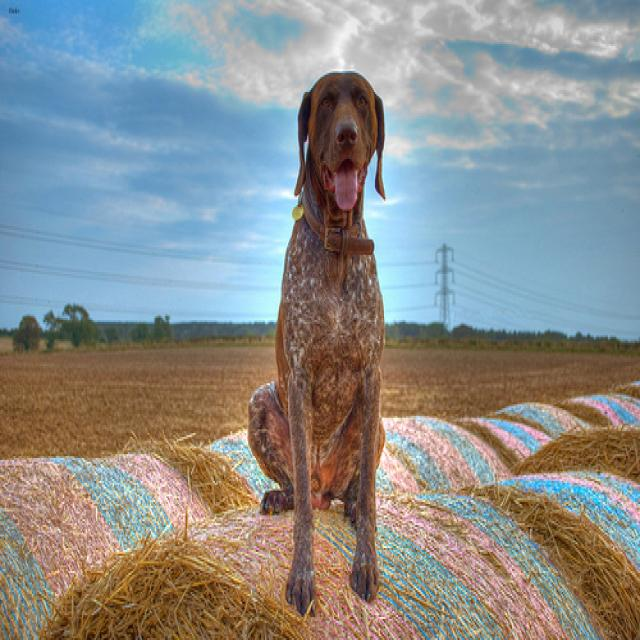dog-german_shorthaired: (238, 57, 396, 623)
